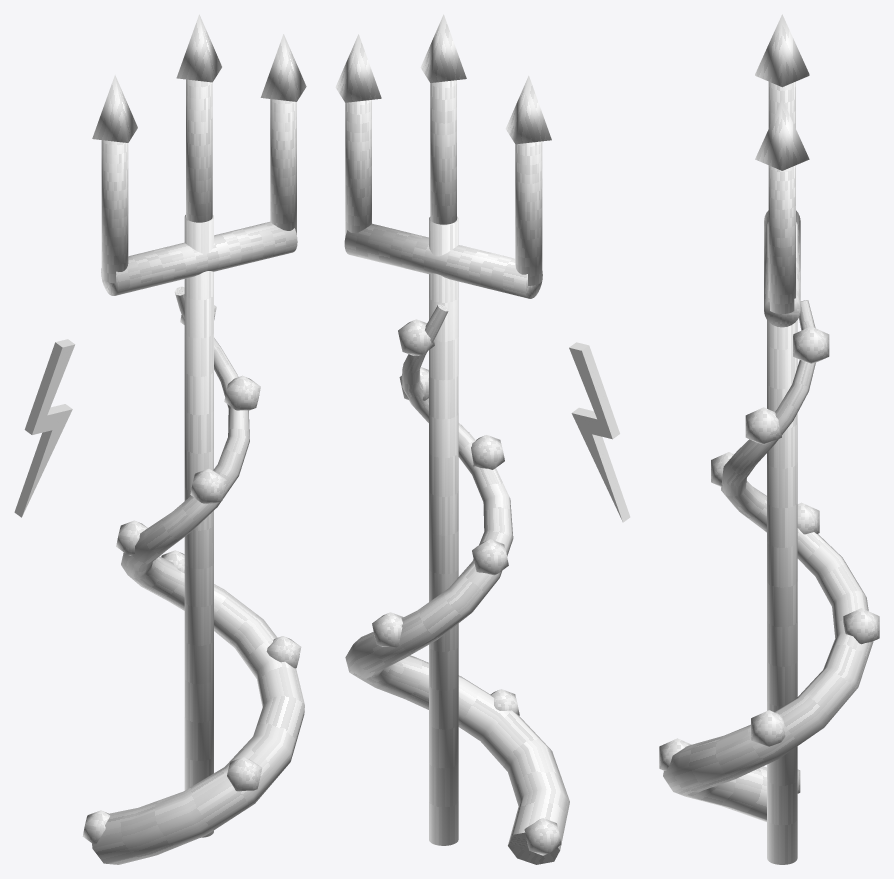
The model's file is tyrant.obj.
3 views of the same model, side by side, from view 1: azimuth 30°, elevation 25°; view 2: azimuth 150°, elevation 25°; view 3: azimuth 270°, elevation 25° (orthographic). The views are drawn at different scales.
Bounding box in the file's own units: 0.3473 × 0.95 × 0.2225.
